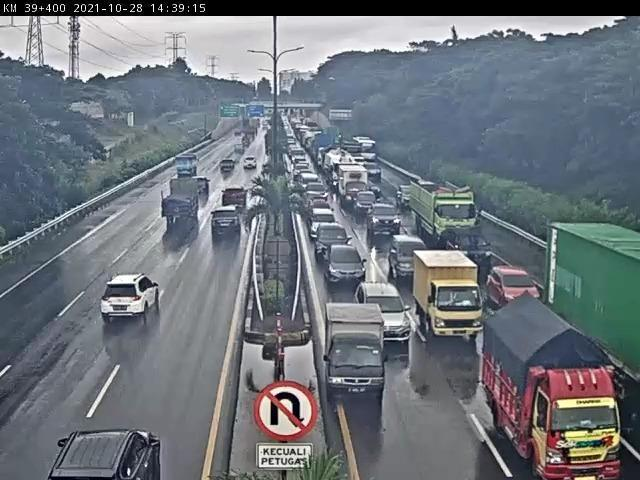car: (50, 426, 182, 480), (358, 272, 426, 354), (99, 269, 168, 330), (480, 252, 543, 318), (324, 243, 371, 291), (444, 224, 495, 267), (201, 204, 253, 244), (210, 184, 260, 222), (316, 223, 354, 267), (389, 236, 426, 279), (368, 204, 404, 239), (216, 157, 238, 178), (244, 157, 260, 173)
truck: (470, 284, 636, 480), (540, 212, 640, 405), (316, 296, 398, 408), (404, 248, 486, 354), (408, 175, 479, 248), (148, 173, 204, 234), (168, 154, 202, 180)
